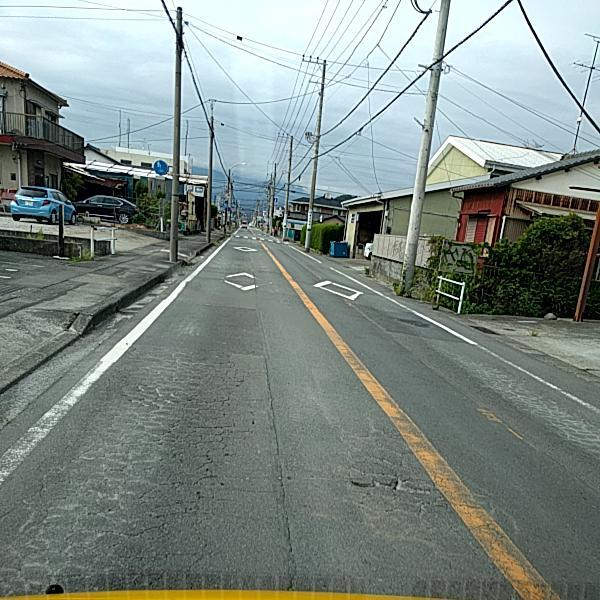D20: (2, 327, 264, 585), (333, 421, 512, 563), (457, 353, 597, 447)
D40: (376, 468, 437, 501)
